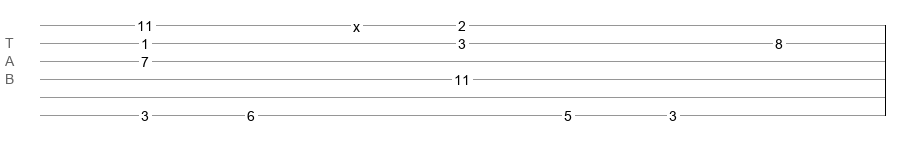1: (141, 36, 149, 46)
11: (137, 18, 153, 28), (454, 72, 470, 82)
2: (458, 18, 466, 28)
3: (141, 108, 149, 118), (458, 36, 466, 46), (669, 108, 677, 118)
5: (564, 108, 572, 118)
6: (247, 108, 255, 118)
7: (141, 54, 149, 64)
8: (775, 36, 783, 46)
x: (353, 19, 360, 27)
